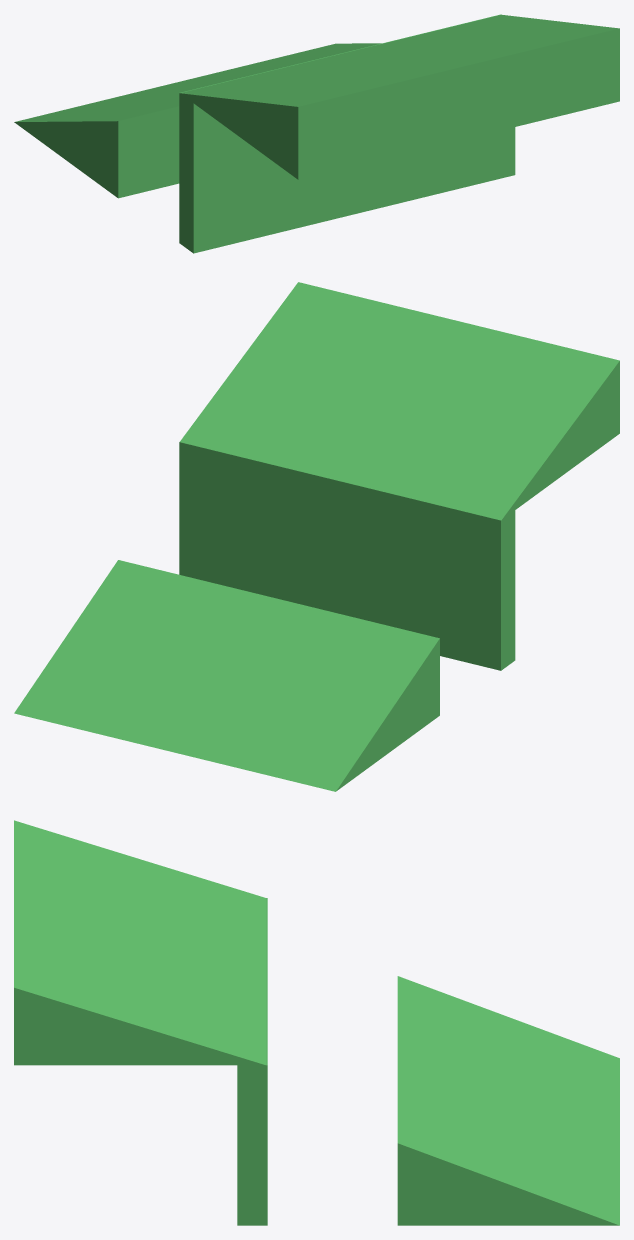
Rendered from stairs_broken_mantle_collision.glb.
3 renders of one model, top to bottom at view 1: azimuth 30°, elevation 25°; view 2: azimuth 150°, elevation 25°; view 3: azimuth 270°, elevation 25°, orthographic. The views are drawn at different scales.
Parts seen in each view (by area): view 1: stairs_broken_mantle_upper-col, stairs_broken_mantle_mantle-col, stairs_broken_mantle_lower-col; view 2: stairs_broken_mantle_upper-col, stairs_broken_mantle_lower-col, stairs_broken_mantle_mantle-col; view 3: stairs_broken_mantle_upper-col, stairs_broken_mantle_lower-col, stairs_broken_mantle_mantle-col.
Boxes of the visible parts, x1,y1,x2,y2 form: stairs_broken_mantle_upper-col: [180, 14, 619, 179]; stairs_broken_mantle_mantle-col: [179, 14, 515, 253]; stairs_broken_mantle_lower-col: [14, 43, 381, 198]; stairs_broken_mantle_upper-col: [180, 282, 619, 519]; stairs_broken_mantle_lower-col: [14, 560, 439, 791]; stairs_broken_mantle_mantle-col: [179, 442, 515, 670]; stairs_broken_mantle_upper-col: [14, 820, 266, 1065]; stairs_broken_mantle_lower-col: [397, 976, 619, 1225]; stairs_broken_mantle_mantle-col: [237, 898, 267, 1225].
Bounding box in the file's own units: 3.92 × 2.6 × 6.
